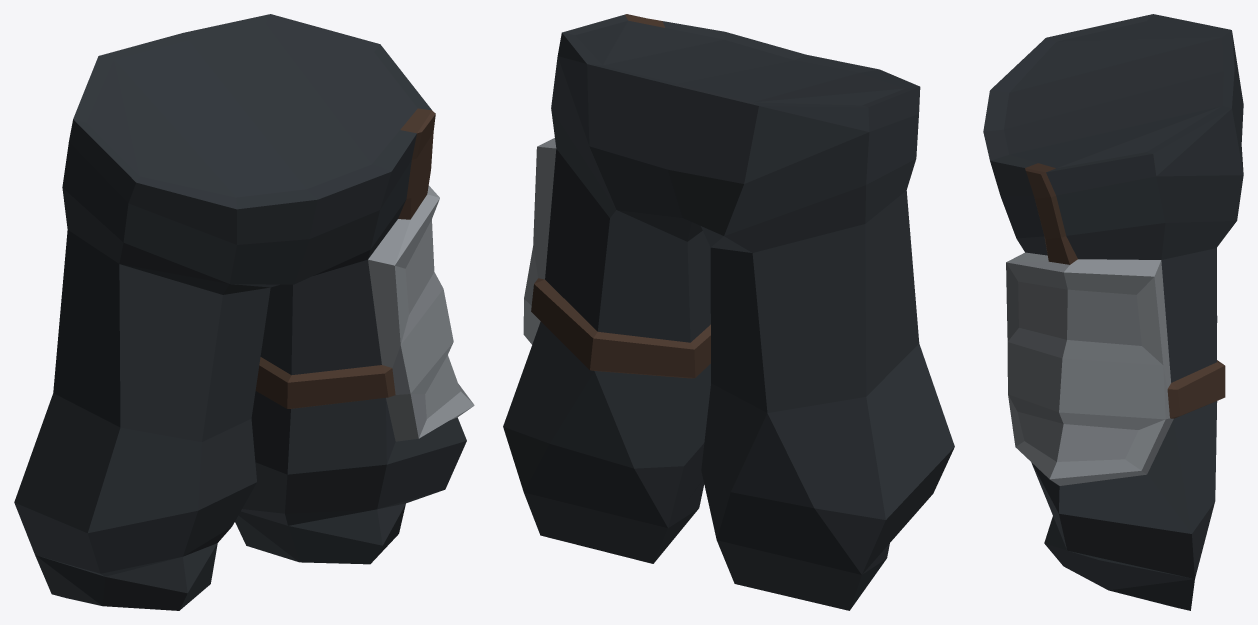
File: Chr_Hips_Male_21_Static.fbx
3 renders of one model, left to right at view 1: azimuth 30°, elevation 25°; view 2: azimuth 150°, elevation 25°; view 3: azimuth 270°, elevation 25°, orthographic. The views are drawn at different scales.
Parts seen in each view (by area): view 1: Chr_Hips_Male_21_Static; view 2: Chr_Hips_Male_21_Static; view 3: Chr_Hips_Male_21_Static.
Boxes of the visible parts, left/top/right/bottom form: Chr_Hips_Male_21_Static: left=14, top=14, right=474, bottom=610; Chr_Hips_Male_21_Static: left=503, top=14, right=954, bottom=610; Chr_Hips_Male_21_Static: left=983, top=14, right=1243, bottom=610.
Size of the model in its own units: 0.4468 by 0.5545 by 0.2771.
